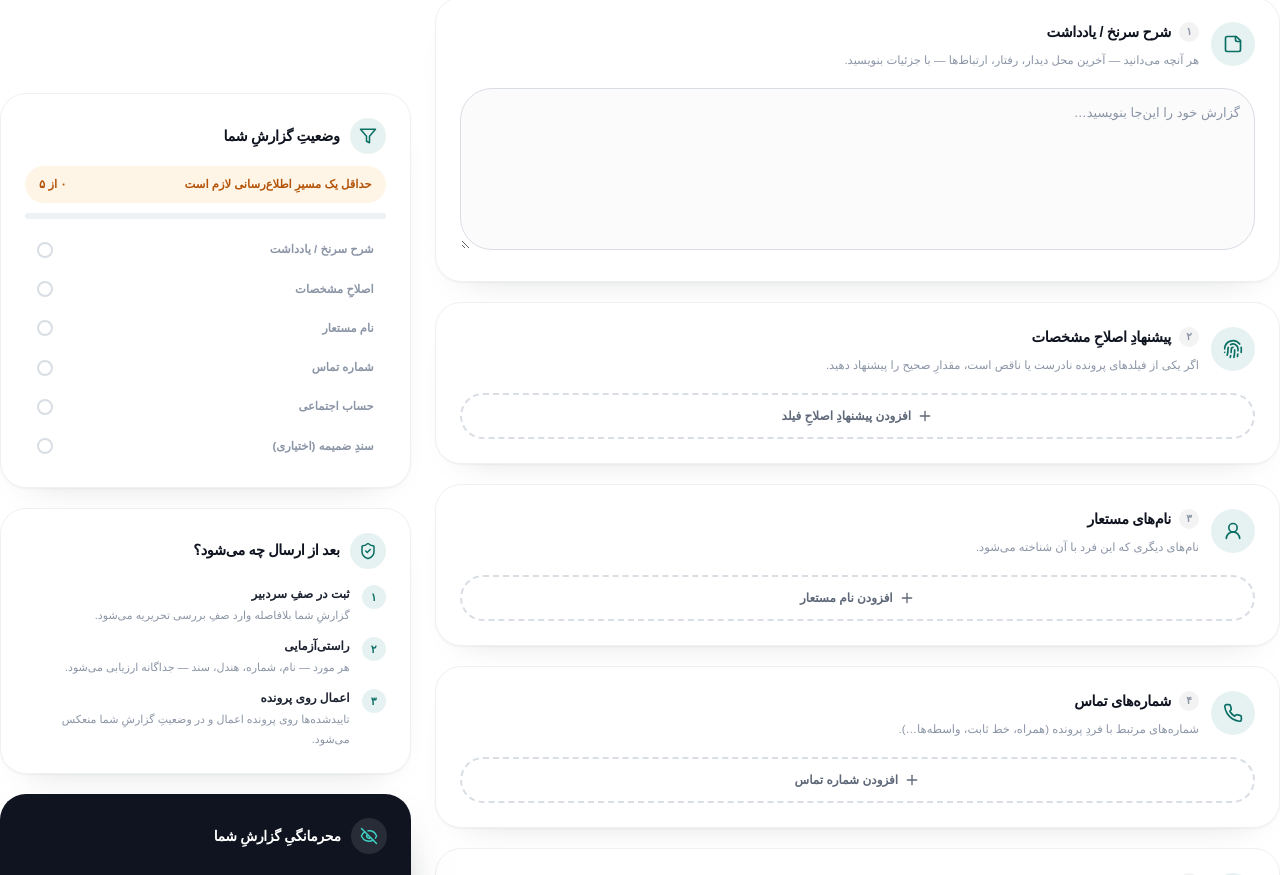
it: ReportPanel — ارسال موفق › خطای سرور (مثل ۴۲۹) به‌صورت پیامِ نمایشی در می‌آید
The image size is (1280, 875).
Type "سرنخ" into the text box with placeholder "گزارش خود را این‌جا بنویسید…" at coordinates (857, 169), box [460,88,1255,250]
(page scrolled)
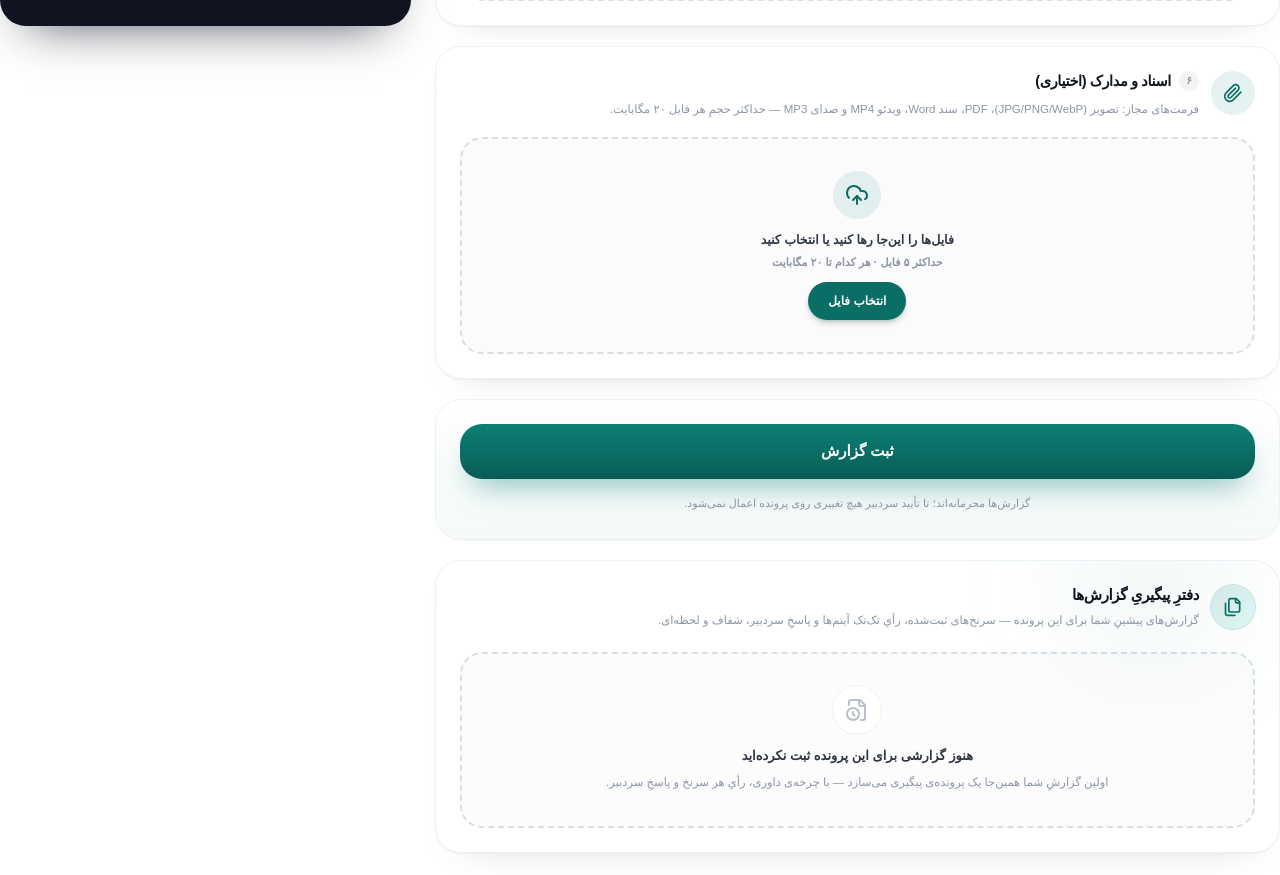
Click the button "ثبت گزارش" at coordinates (857, 452), box [460,424,1255,479]
(page scrolled)
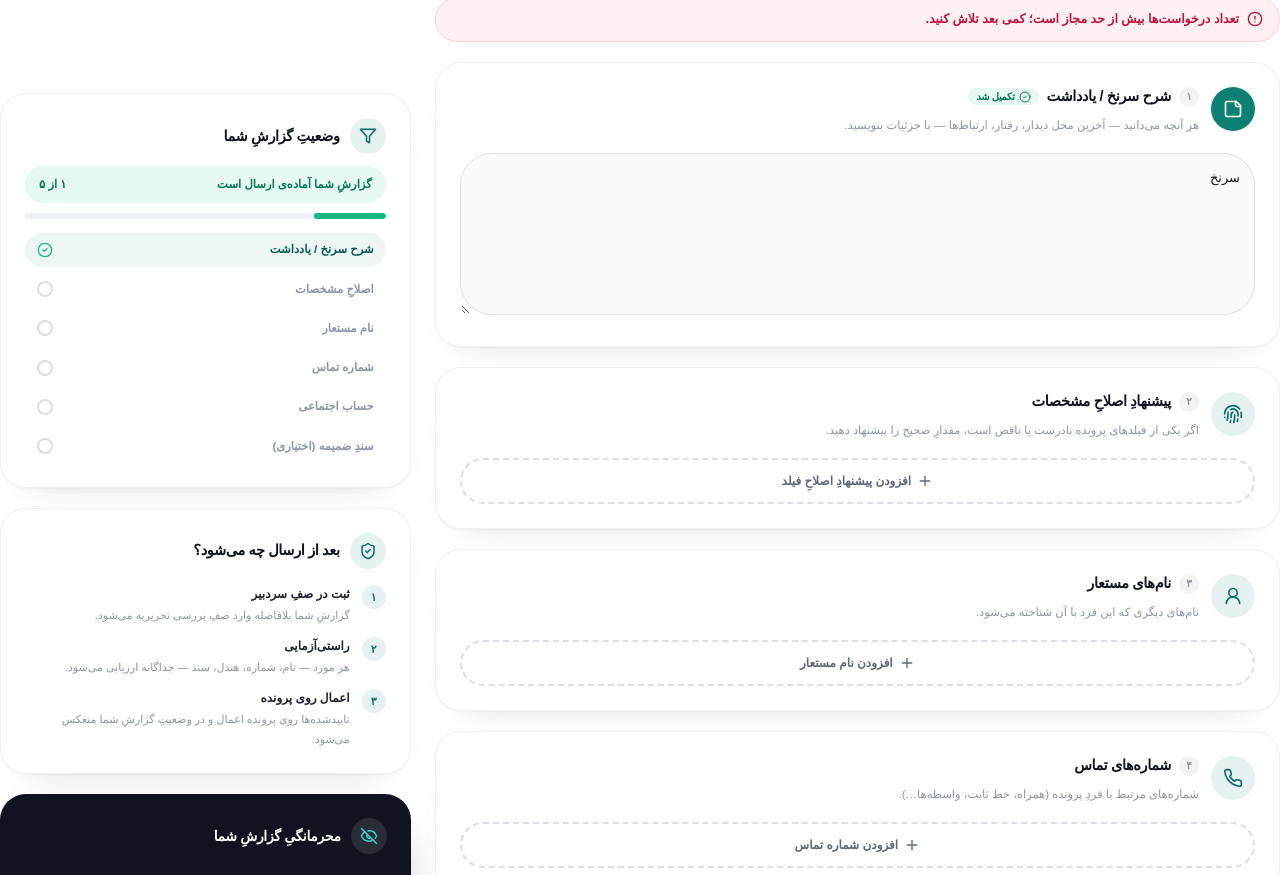
Now the message shows "بیش از حد مجاز", box [926,12,1239,26]
